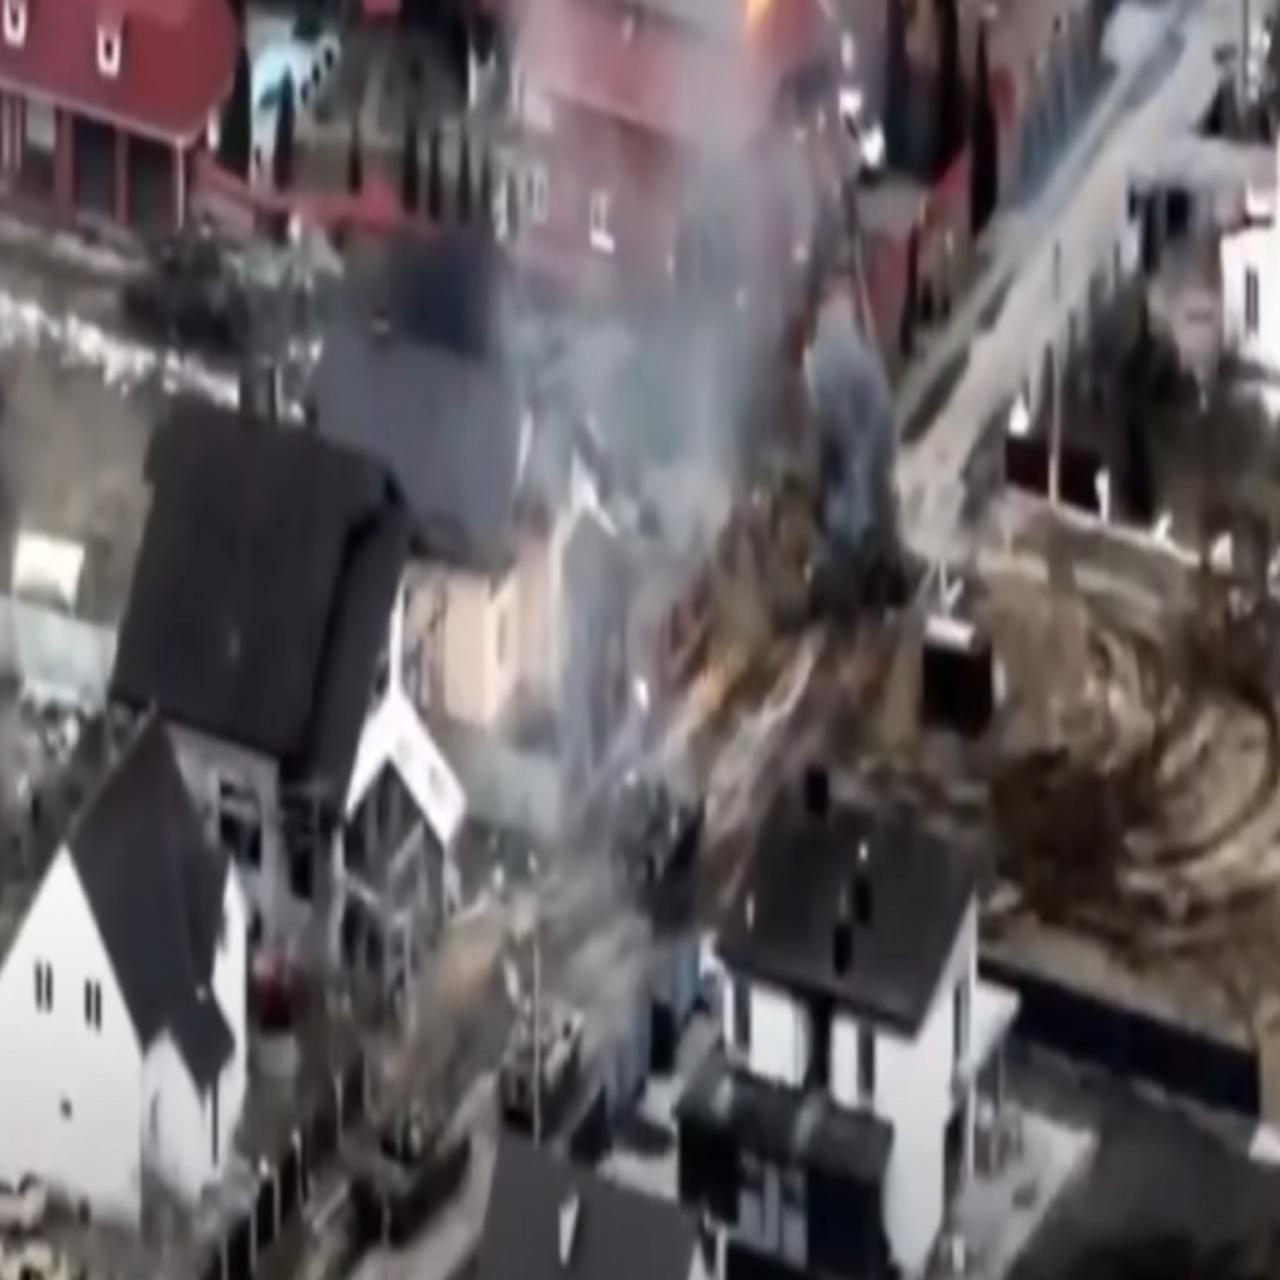MIL_Veh: (347, 1098, 470, 1238), (599, 755, 707, 912), (490, 976, 588, 1129)
